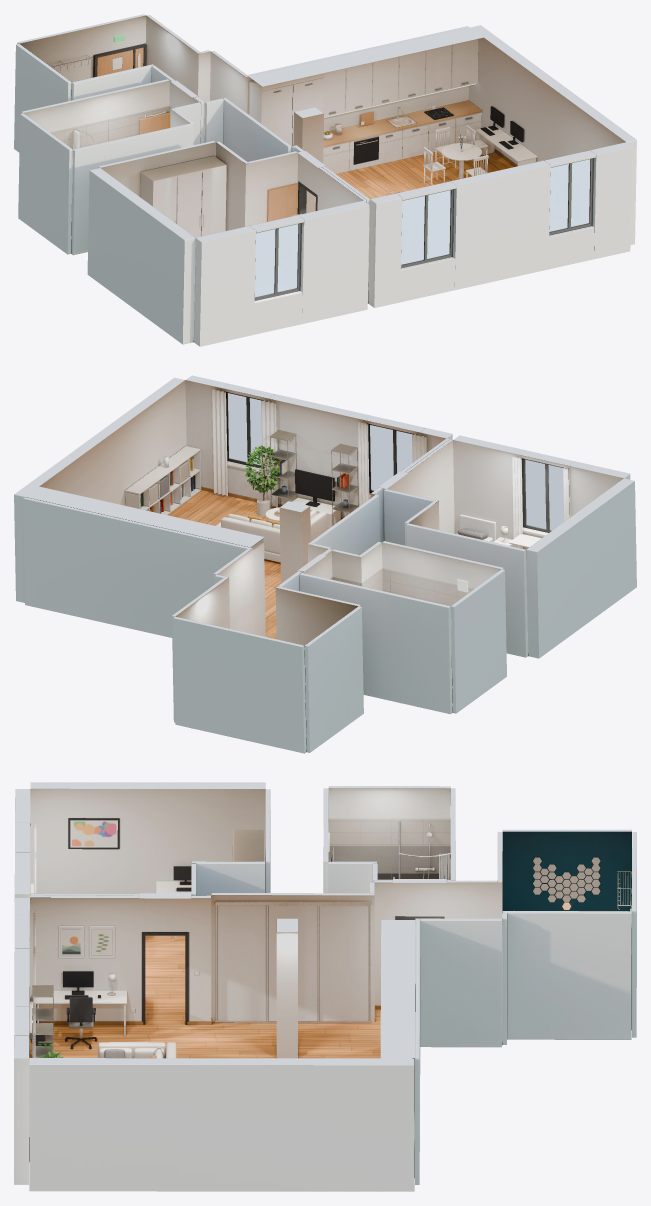
The model's file is flat_baked_no_ceiling_captury.glb.
3 views of the same model, one above another, from view 1: azimuth 30°, elevation 25°; view 2: azimuth 150°, elevation 25°; view 3: azimuth 270°, elevation 25° (orthographic). The views are drawn at different scales.
Visible parts, largest first — view 1: zapec_telo_0, zapec_zdi_1, zapec_nabytek_6, zapec_podlahy_2, zapec_nabytek_7, sklo_okno_67, sklo_okno_111, sklo_okno_74; view 2: zapec_telo_0, zapec_zdi_1, zapec_nabytek_6, zapec_zaclony_5, zapec_podlahy_2, sklo_okno_111, sklo_okno_67, sklo_okno_74, zapec_listy_4; view 3: zapec_telo_0, zapec_zdi_1, zapec_nabytek_6, zapec_podlahy_2, zapec_nabytek_7, zapec_zaclony_5.
Part boxes in pixels (x1=…): zapec_telo_0: x1=14, y1=14, x2=636, y2=346; zapec_zdi_1: x1=19, y1=15, x2=625, y2=341; zapec_nabytek_6: x1=112, y1=38, x2=537, y2=237; zapec_podlahy_2: x1=336, y1=151, x2=514, y2=198; zapec_nabytek_7: x1=47, y1=34, x2=488, y2=185; sklo_okno_67: x1=401, y1=190, x2=450, y2=264; sklo_okno_111: x1=255, y1=224, x2=298, y2=297; sklo_okno_74: x1=549, y1=159, x2=590, y2=231; zapec_telo_0: x1=14, y1=375, x2=636, y2=753; zapec_zdi_1: x1=25, y1=380, x2=623, y2=751; zapec_nabytek_6: x1=124, y1=430, x2=541, y2=636; zapec_zaclony_5: x1=211, y1=389, x2=569, y2=548; zapec_podlahy_2: x1=168, y1=490, x2=328, y2=639; sklo_okno_111: x1=525, y1=459, x2=564, y2=530; sklo_okno_67: x1=370, y1=425, x2=417, y2=490; sklo_okno_74: x1=227, y1=393, x2=262, y2=465; zapec_listy_4: x1=245, y1=445, x2=280, y2=492; zapec_telo_0: x1=14, y1=782, x2=636, y2=1191; zapec_zdi_1: x1=29, y1=788, x2=631, y2=1177; zapec_nabytek_6: x1=29, y1=821, x2=600, y2=1058; zapec_podlahy_2: x1=30, y1=935, x2=380, y2=1058; zapec_nabytek_7: x1=131, y1=847, x2=631, y2=1029; zapec_zaclony_5: x1=32, y1=823, x2=36, y2=1057.
Bounding box in the file's own units: 12.36 × 2.95 × 11.94.
Materials: 9 (7 with a texture image).
